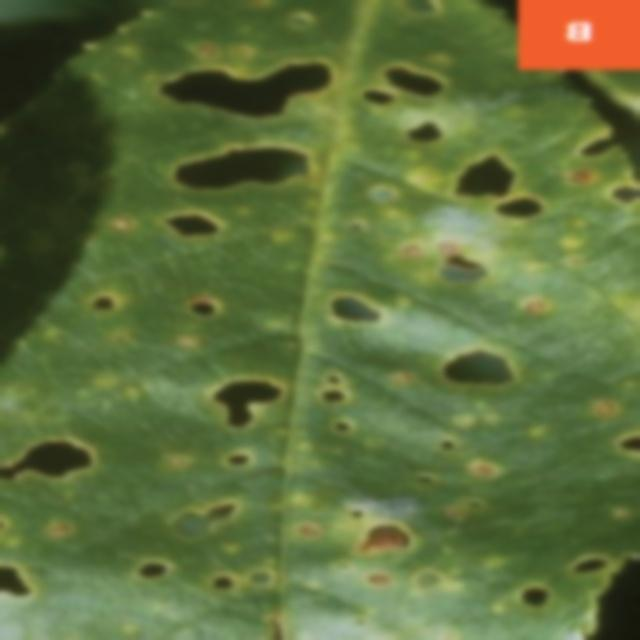shot_hole: (14, 70, 637, 639)
